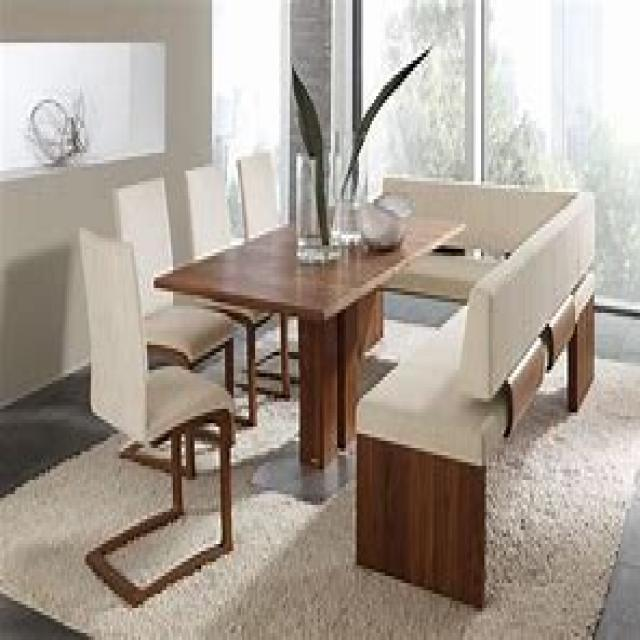chair: (352, 185, 594, 608), (76, 224, 236, 604), (108, 174, 234, 476), (182, 164, 290, 423)
table: (151, 206, 465, 469)
